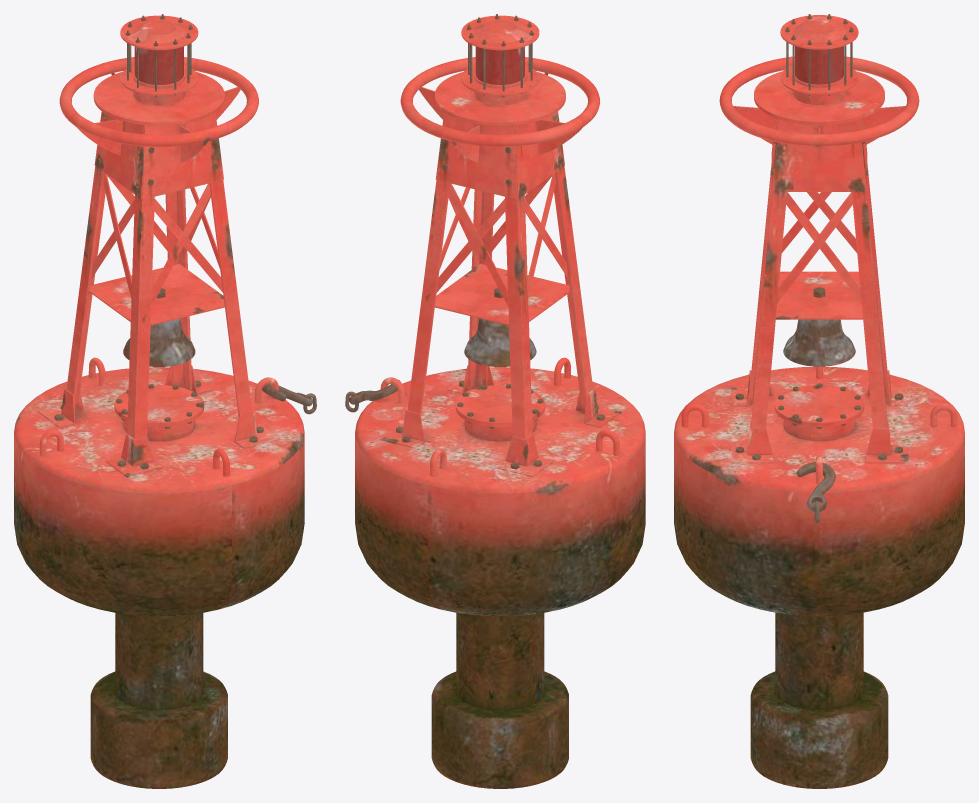
The model's file is ocean_buoy.glb.
3 renders of one model, left to right at view 1: azimuth 30°, elevation 25°; view 2: azimuth 150°, elevation 25°; view 3: azimuth 270°, elevation 25°, orthographic.
Visible parts, largest first — view 1: ocean_buoy; view 2: ocean_buoy; view 3: ocean_buoy.
Boxes of the visible parts, <box> form: ocean_buoy: <box>14,14,316,788</box>; ocean_buoy: <box>345,14,645,788</box>; ocean_buoy: <box>674,14,964,788</box>.
Size of the model in its own units: 1.07 by 2.66 by 0.9521.
Materials: 1 (1 with a texture image).
